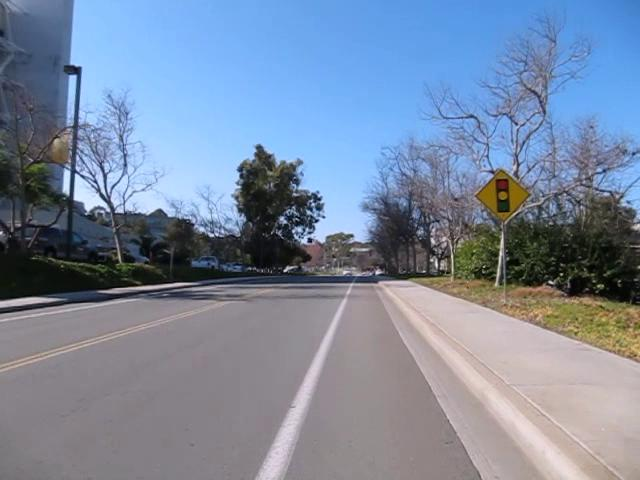signalAhead: (473, 167, 531, 222)
